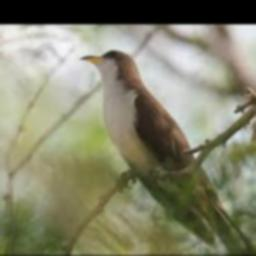Cuckoo: (80, 51, 256, 255)
